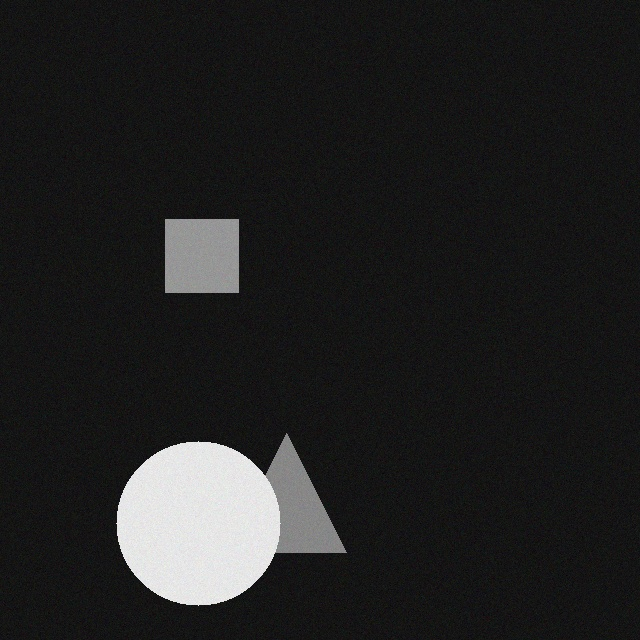circle: (130, 441, 294, 605)
square: (179, 219, 252, 292)
triangle: (241, 433, 360, 552)
